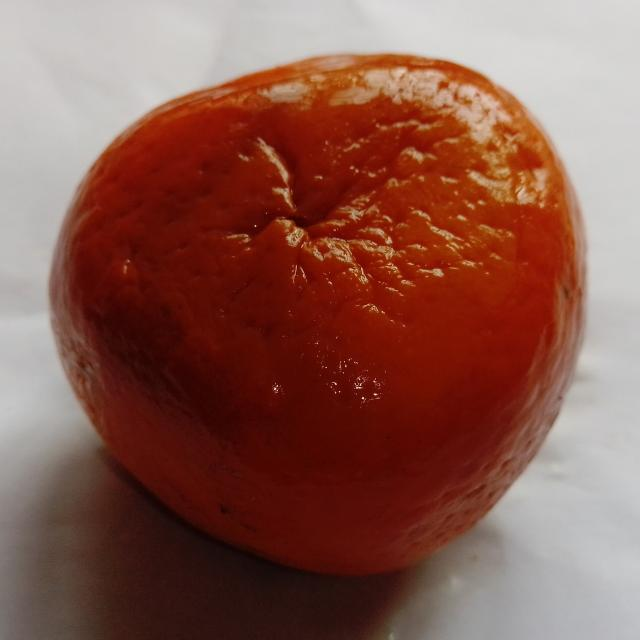orange: (51, 55, 583, 574)
